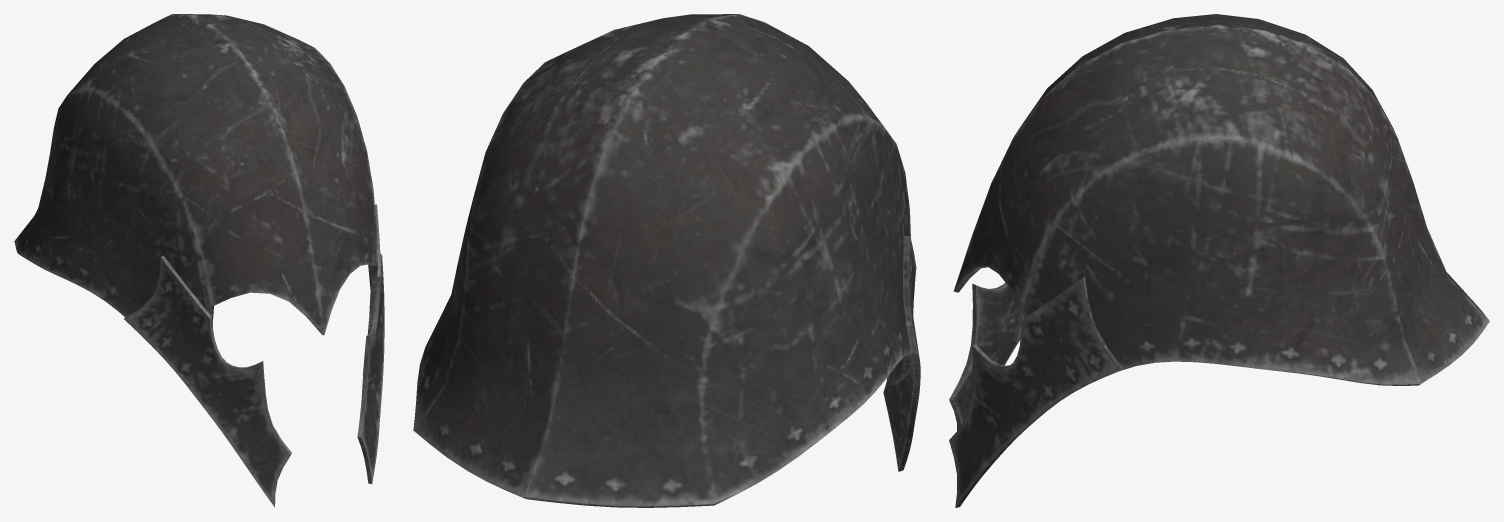
The model's file is sk_uruk_mordor_helmet_medium_c2.fbx.
The picture shows the model from 3 angles, left to right: view 1: azimuth 30°, elevation 25°; view 2: azimuth 150°, elevation 25°; view 3: azimuth 270°, elevation 25°; orthographic projection. The views are drawn at different scales.
Parts seen in each view (by area): view 1: sk_uruk_mordor_helmet_medium_c2; view 2: sk_uruk_mordor_helmet_medium_c2; view 3: sk_uruk_mordor_helmet_medium_c2.
Boxes of the visible parts, x1,y1,x2,y2 form: sk_uruk_mordor_helmet_medium_c2: (14,14,384,507); sk_uruk_mordor_helmet_medium_c2: (413,14,920,507); sk_uruk_mordor_helmet_medium_c2: (949,14,1489,507).
Size of the model in its own units: 0.234 by 0.3137 by 0.291.
Materials: 1 (1 with a texture image).
